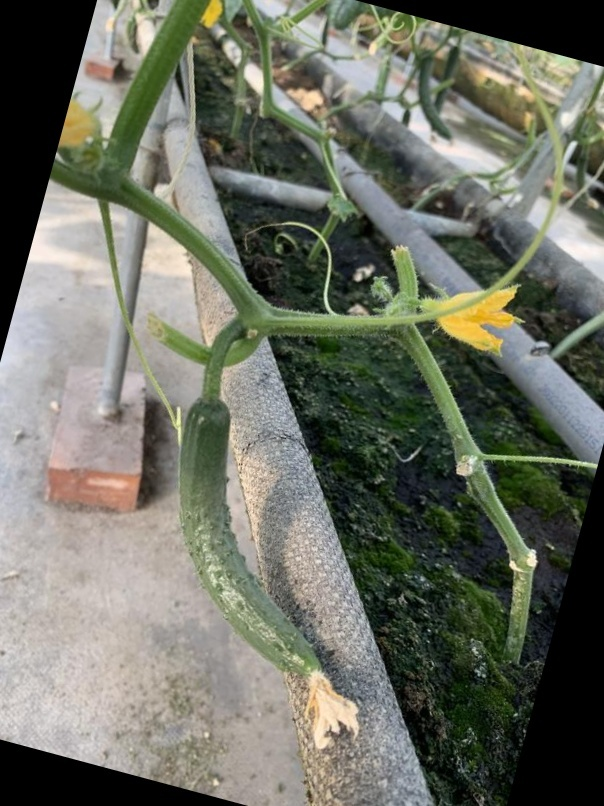bud: (425, 277, 518, 353)
growth: (155, 392, 380, 741)
